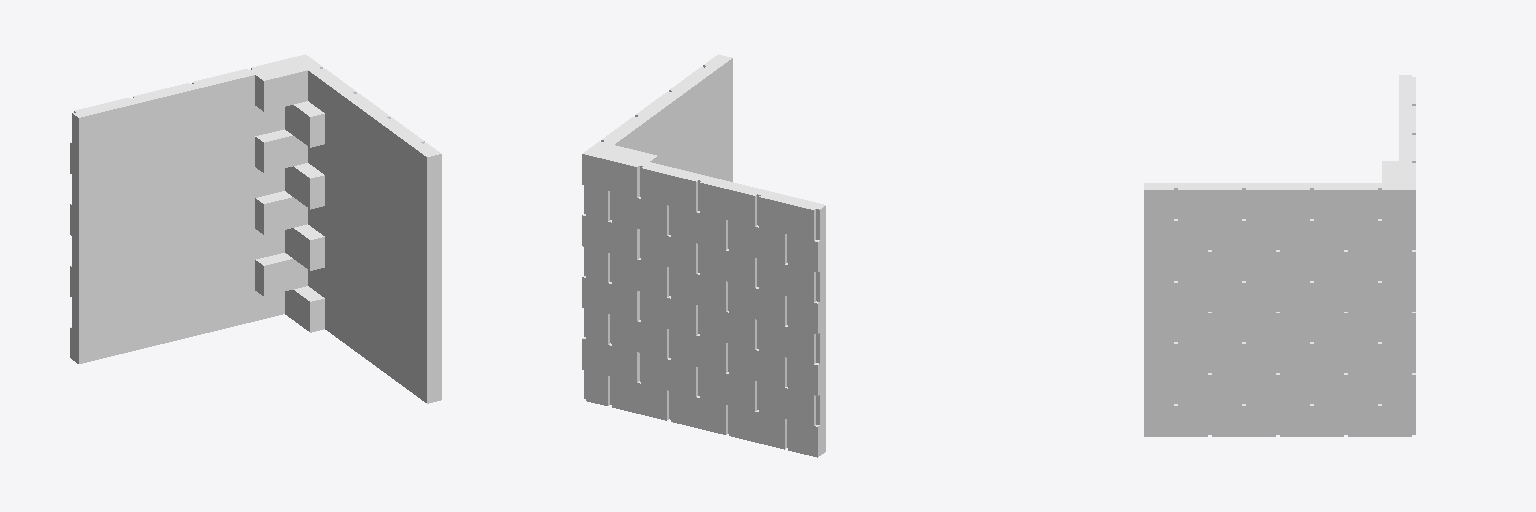
Rendered from dive_bar_wall_b_corner.obj.
3 views of the same model, side by side, from view 1: azimuth 30°, elevation 25°; view 2: azimuth 150°, elevation 25°; view 3: azimuth 270°, elevation 25° (orthographic).
Bounding box in the file's own units: 64 × 64 × 64.